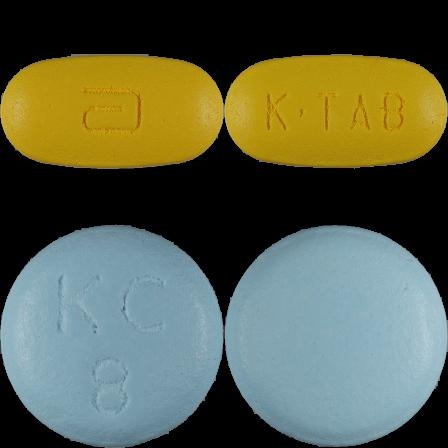53808-0277: (0, 0, 224, 224)
